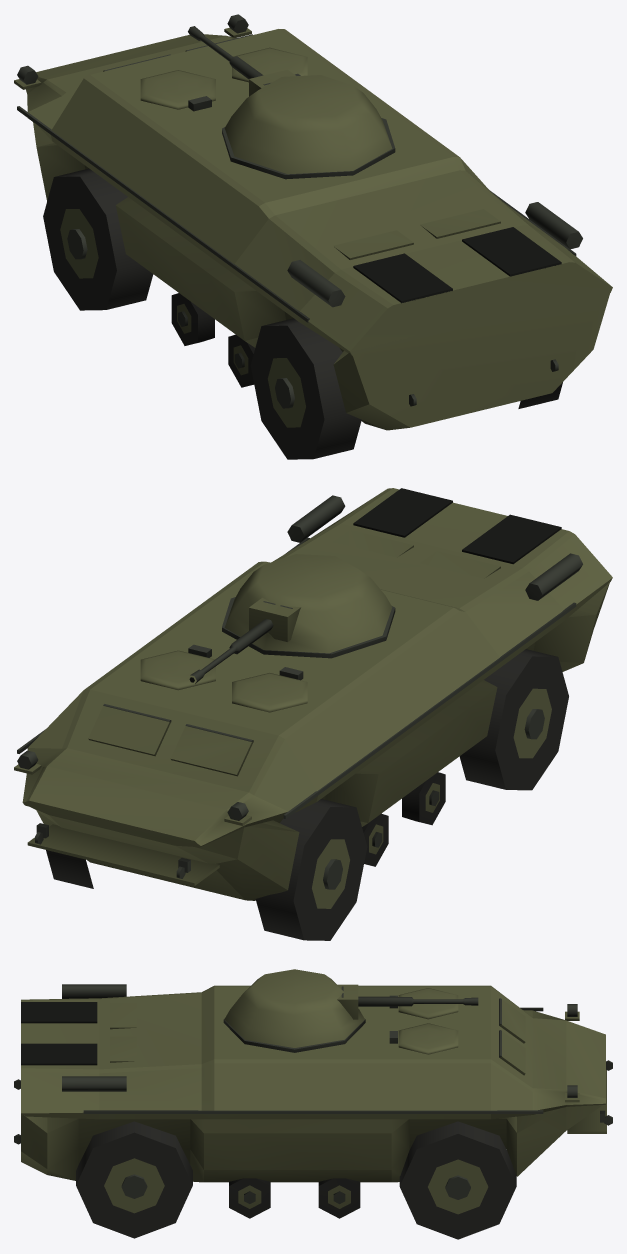
Rendered from brdm2_lod2.glb.
3 renders of one model, top to bottom at view 1: azimuth 30°, elevation 25°; view 2: azimuth 150°, elevation 25°; view 3: azimuth 270°, elevation 25°, orthographic. The views are drawn at different scales.
Visible parts, largest first — view 1: Hull_BRDM2_Paint, LeftTrack_Motion_BRDM2_Rubber, TurretYaw_BRDM2_Paint, Hull_BRDM2_DarkSteel, Hull_BRDM2_Cavity, LeftTrack_Motion_BRDM2_Paint, Hull_BRDM2_Rubber, LeftTrack_Motion_BRDM2_DarkSteel, BarrelRecoil_BRDM2_DarkSteel; view 2: Hull_BRDM2_Paint, LeftTrack_Motion_BRDM2_Rubber, TurretYaw_BRDM2_Paint, Hull_BRDM2_DarkSteel, Hull_BRDM2_Cavity, LeftTrack_Motion_BRDM2_Paint, Hull_BRDM2_Rubber, RightTrack_Motion_BRDM2_Rubber, LeftTrack_Motion_BRDM2_DarkSteel, BarrelRecoil_BRDM2_DarkSteel; view 3: Hull_BRDM2_Paint, RightTrack_Motion_BRDM2_Rubber, TurretYaw_BRDM2_Paint, Hull_BRDM2_DarkSteel, RightTrack_Motion_BRDM2_Paint, Hull_BRDM2_Cavity, Hull_BRDM2_Rubber, RightTrack_Motion_BRDM2_DarkSteel, BarrelRecoil_BRDM2_DarkSteel.
Boxes of the visible parts, x1,y1,x2,y2 form: Hull_BRDM2_Paint: [14, 27, 612, 430]; LeftTrack_Motion_BRDM2_Rubber: [43, 168, 361, 459]; TurretYaw_BRDM2_Paint: [224, 69, 392, 174]; Hull_BRDM2_DarkSteel: [17, 14, 582, 406]; Hull_BRDM2_Cavity: [353, 227, 561, 303]; LeftTrack_Motion_BRDM2_Paint: [60, 209, 305, 427]; Hull_BRDM2_Rubber: [171, 293, 255, 387]; LeftTrack_Motion_BRDM2_DarkSteel: [67, 229, 294, 408]; BarrelRecoil_BRDM2_DarkSteel: [188, 26, 263, 79]; Hull_BRDM2_Paint: [14, 488, 612, 900]; LeftTrack_Motion_BRDM2_Rubber: [255, 649, 568, 940]; TurretYaw_BRDM2_Paint: [224, 554, 392, 653]; Hull_BRDM2_DarkSteel: [17, 495, 582, 878]; Hull_BRDM2_Cavity: [353, 488, 561, 564]; LeftTrack_Motion_BRDM2_Paint: [312, 688, 551, 908]; Hull_BRDM2_Rubber: [362, 772, 445, 866]; RightTrack_Motion_BRDM2_Rubber: [46, 850, 93, 888]; LeftTrack_Motion_BRDM2_DarkSteel: [323, 709, 544, 889]; BarrelRecoil_BRDM2_DarkSteel: [190, 618, 273, 683]; Hull_BRDM2_Paint: [21, 985, 606, 1208]; RightTrack_Motion_BRDM2_Rubber: [76, 1121, 516, 1239]; TurretYaw_BRDM2_Paint: [224, 969, 364, 1047]; Hull_BRDM2_DarkSteel: [14, 984, 612, 1204]; RightTrack_Motion_BRDM2_Paint: [104, 1158, 488, 1214]; Hull_BRDM2_Cavity: [21, 1002, 97, 1065]; Hull_BRDM2_Rubber: [229, 1178, 360, 1218]; RightTrack_Motion_BRDM2_DarkSteel: [121, 1174, 470, 1199]; BarrelRecoil_BRDM2_DarkSteel: [358, 996, 478, 1006].
Bounding box in the file's own units: 2.35 × 2.17 × 5.74.
